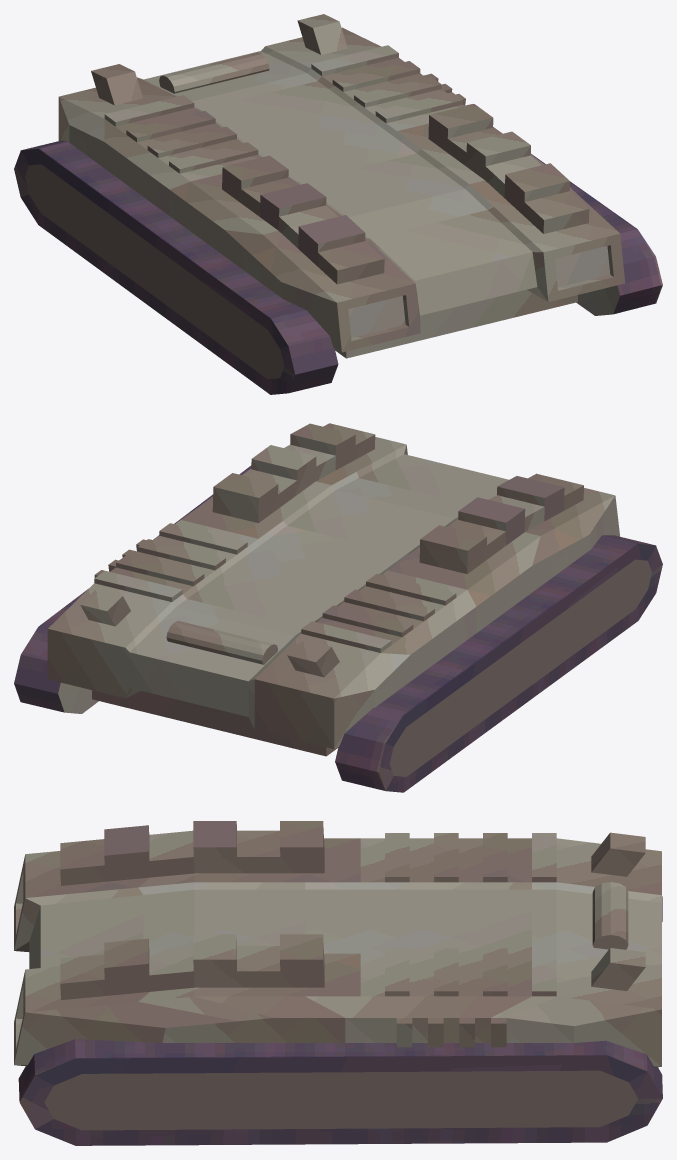
The model's file is 190_tankki.gltf.
3 views of the same model, one above another, from view 1: azimuth 30°, elevation 25°; view 2: azimuth 150°, elevation 25°; view 3: azimuth 270°, elevation 25° (orthographic). The views are drawn at different scales.
Visible parts, largest first — view 1: tankki; view 2: tankki; view 3: tankki.
Boxes of the visible parts, box(x1,y1,x2,y2) form: tankki: box(14, 14, 662, 394); tankki: box(14, 423, 662, 792); tankki: box(14, 821, 662, 1145).
Bounding box in the file's own units: 4.92 × 1.73 × 6.56.
1 material, 1 textured.
